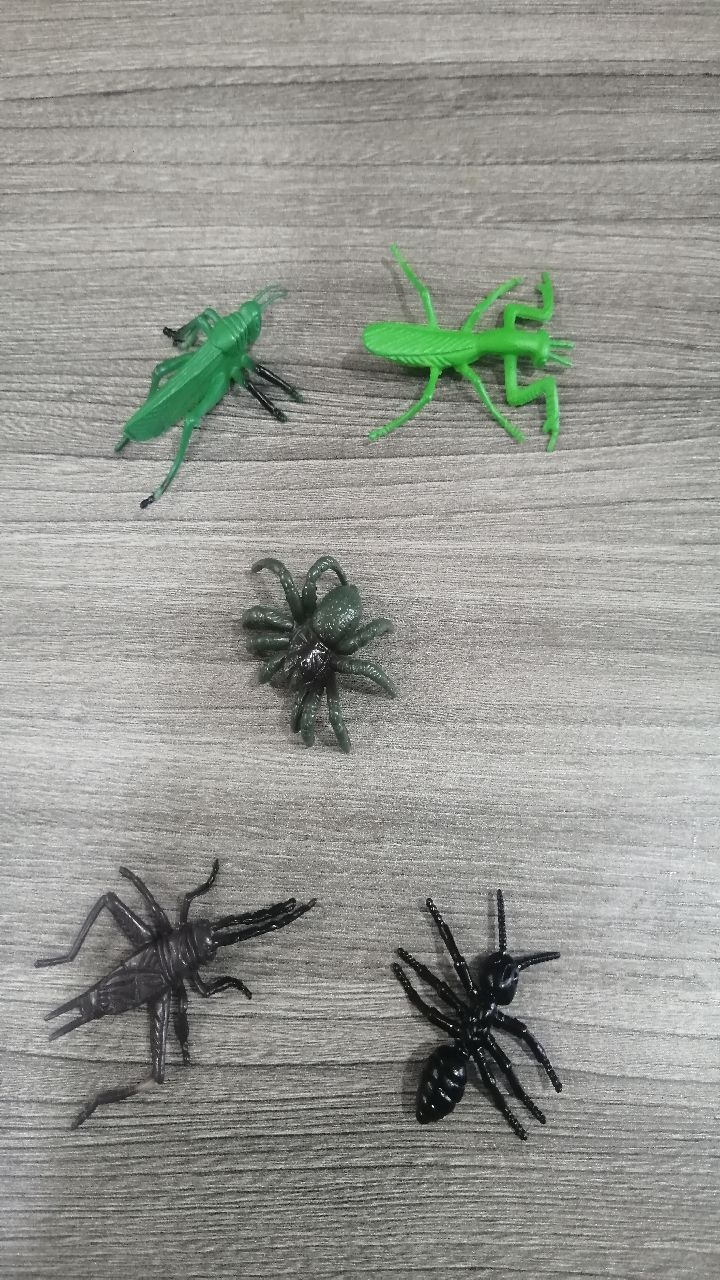intruso: (20, 828, 326, 1142), (328, 223, 591, 495), (348, 860, 578, 1159), (77, 266, 315, 522), (192, 531, 415, 765)
